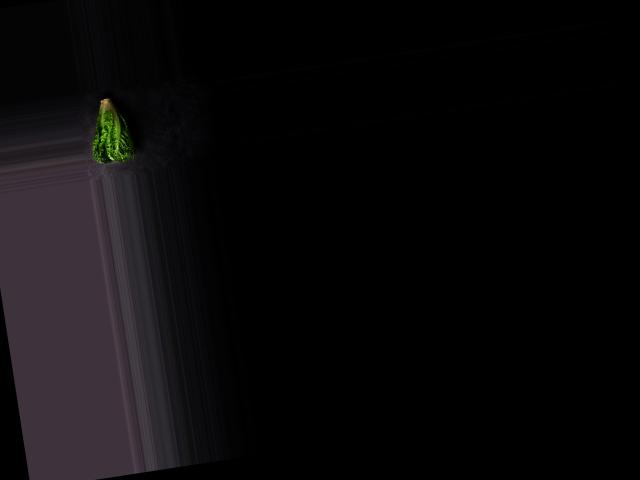lettuce: (82, 89, 138, 166)
